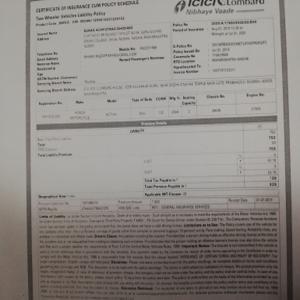table: (33, 116, 281, 188)
text: (35, 1, 141, 21)
